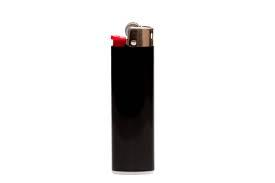lighter: (110, 19, 157, 176)
